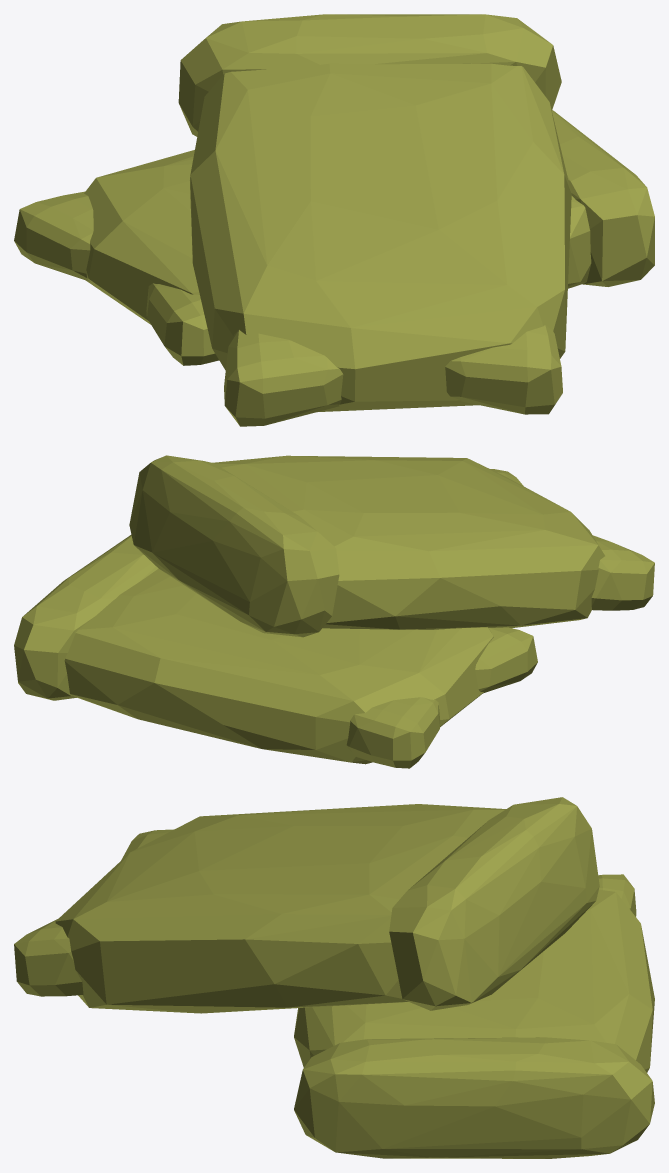
File: sack of grain v1.obj
3 renders of one model, top to bottom at view 1: azimuth 30°, elevation 25°; view 2: azimuth 150°, elevation 25°; view 3: azimuth 270°, elevation 25°, orthographic. The views are drawn at different scales.
Parts seen in each view (by area): view 1: Cube.000; view 2: Cube.000; view 3: Cube.000.
Part boxes in pixels (left/top/right/bottom): Cube.000: left=14, top=14, right=654, bottom=426; Cube.000: left=14, top=455, right=654, bottom=768; Cube.000: left=14, top=797, right=654, bottom=1158.
Bounding box in the file's own units: 0.5401 × 0.246 × 0.6082.
